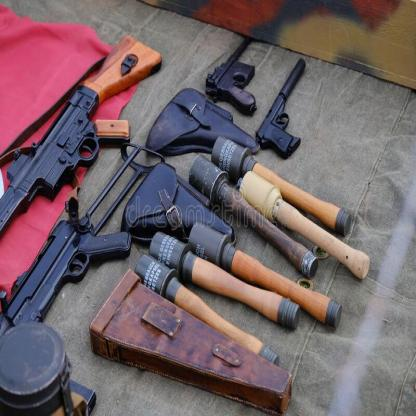Grenade: (186, 152, 320, 282), (133, 252, 280, 368), (187, 221, 343, 330), (148, 228, 301, 331), (238, 169, 371, 282), (210, 134, 353, 238)
Gun: (0, 32, 164, 238), (0, 139, 166, 337)
Pistol: (254, 57, 307, 162), (204, 34, 259, 117)
